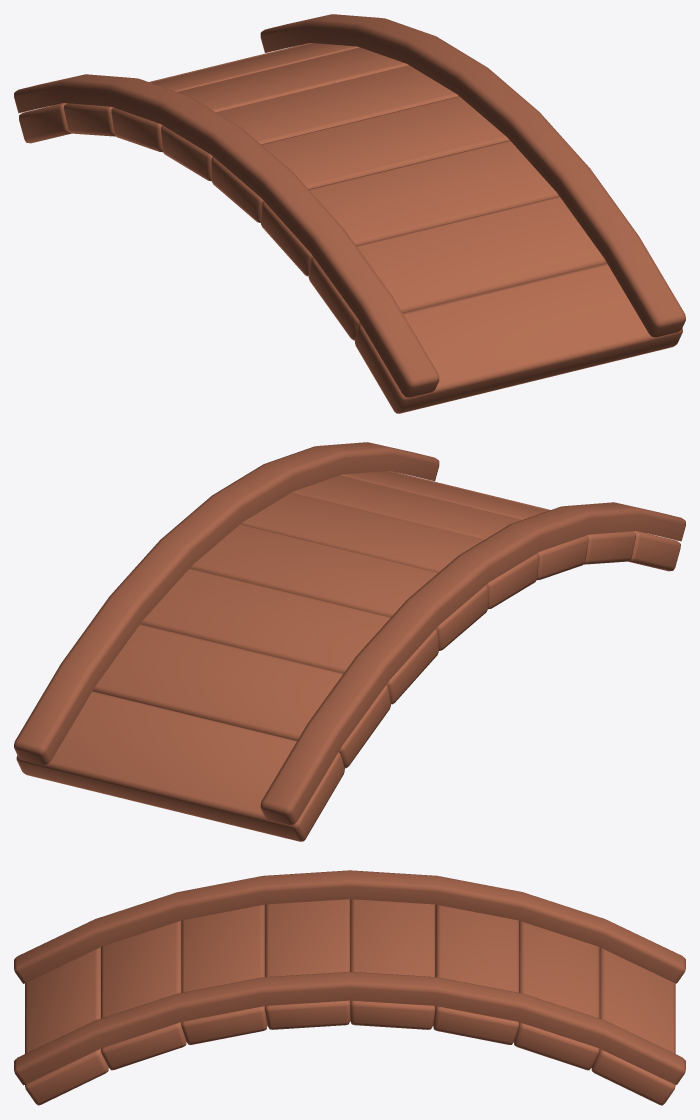
File: Bridge_01.fbx
3 views of the same model, one above another, from view 1: azimuth 30°, elevation 25°; view 2: azimuth 150°, elevation 25°; view 3: azimuth 270°, elevation 25° (orthographic). The views are drawn at different scales.
Visible parts, largest first — view 1: Bridge_01; view 2: Bridge_01; view 3: Bridge_01.
Part boxes in pixels (x1,y1,x2,y2): Bridge_01: (14, 14, 685, 413); Bridge_01: (14, 442, 685, 841); Bridge_01: (14, 870, 685, 1105).
Bounding box in the file's own units: 4097 × 2012 × 10001.
